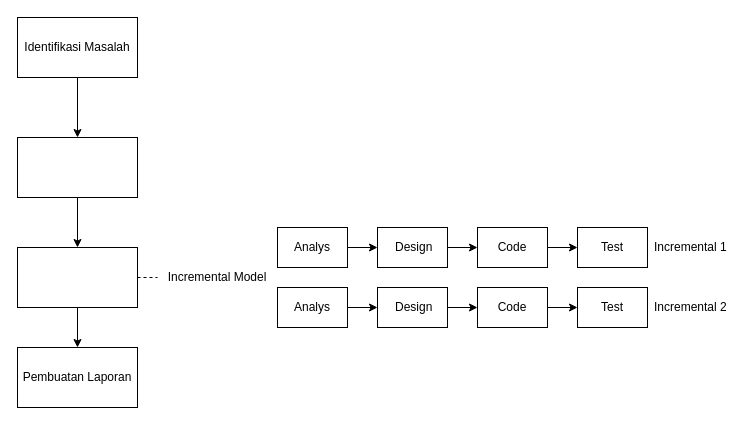
Some shapes in this 755 by 425 pixel diagram are drawn without their labels. Here are the shapes that lost their labels. From the top down, the box of each, then its label:
(16, 136, 138, 198): Studi Literatur
(16, 246, 138, 308): Implementasi Metode Incremental
